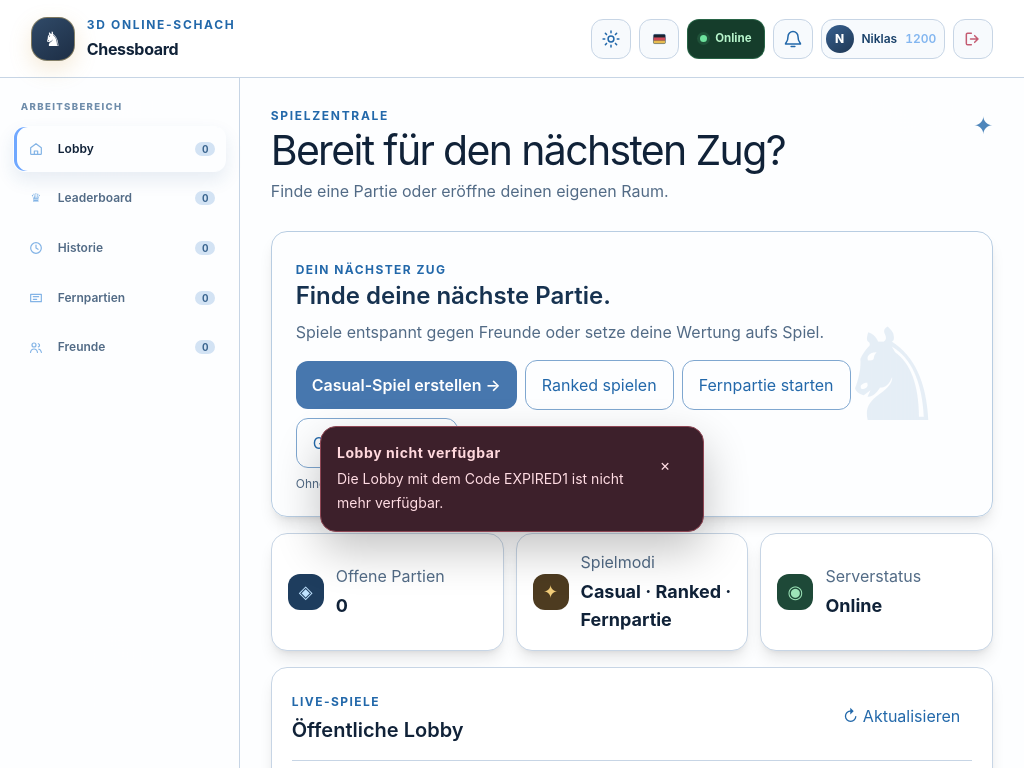
it: App › redirects unavailable game links to the lobby and shows a code popover
The width and height of the screenshot is (1024, 768).
Expected: the heading "Bereit für den nächsten Zug?" is shown, [271, 130, 785, 171]
Expected: the dialog "Lobby nicht verfügbar" is shown, [320, 426, 704, 532]
Click the button named "Hinweis schließen" at [665, 465], box [643, 443, 687, 487]
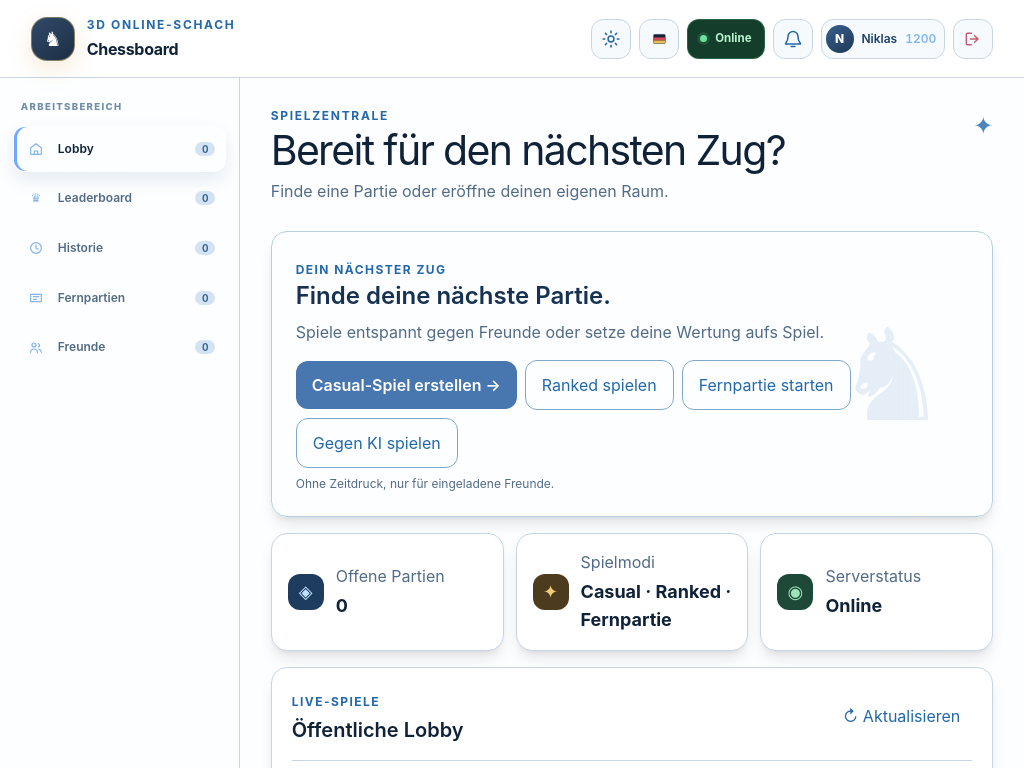
Expected: the text "Lobby nicht verfügbar" is gone
